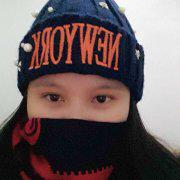OK: (31, 79, 127, 173)
